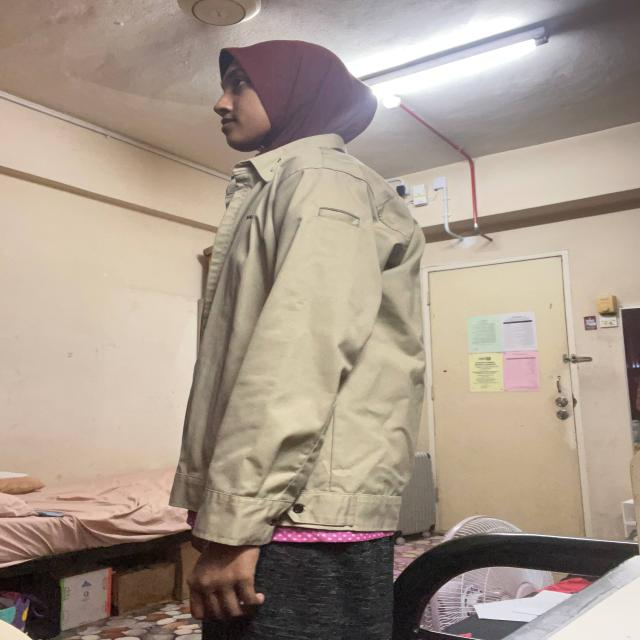person_with_labcoat: (170, 40, 425, 640)
